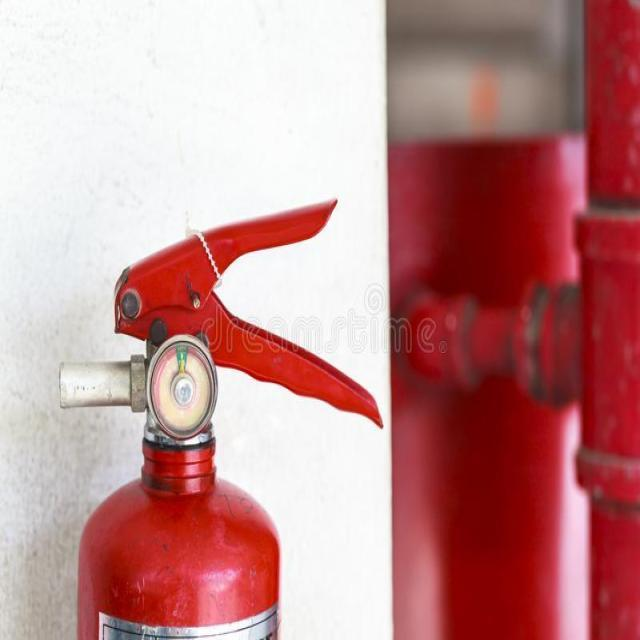fire_extinguisher: (52, 187, 388, 639)
